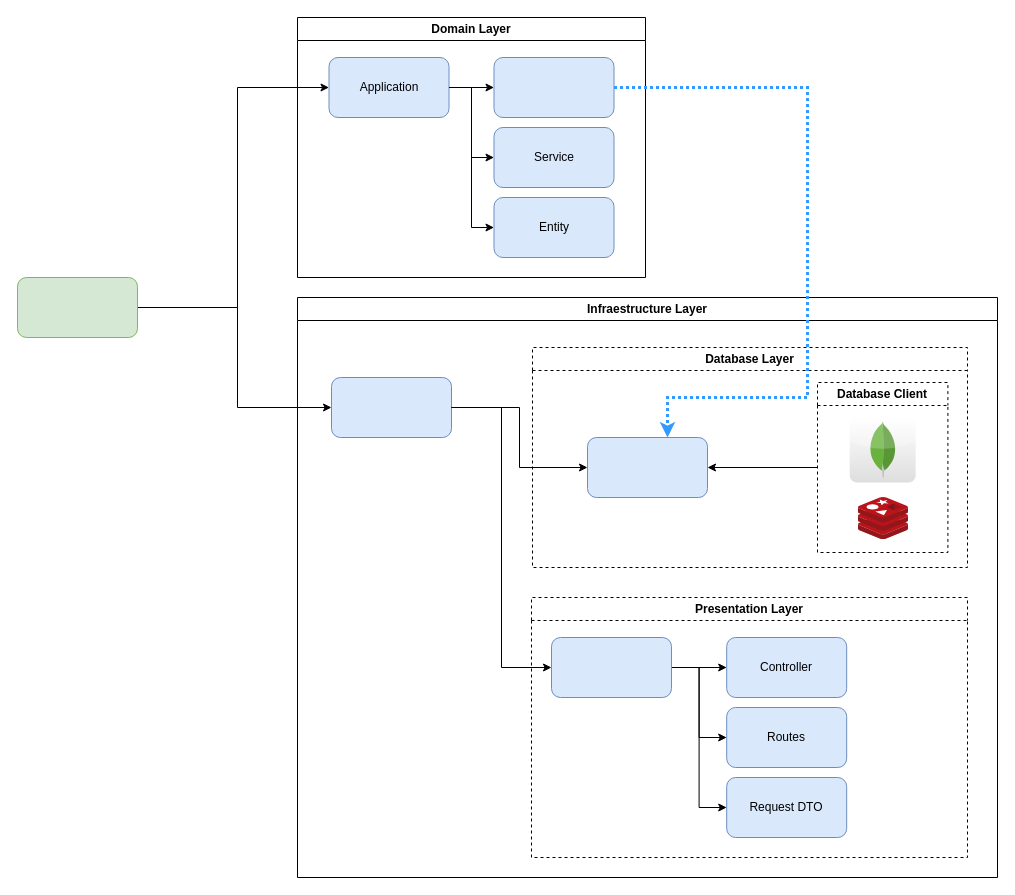
The diagram is 1015 pixels wide and 895 high, and some of its shapes have lost their labels. The shapes that lost their labels are listed below. From the top down, each one's centre as x and y in pixels, then its label:
the point at 553,87: Interface
the point at 77,307: APP
the point at 391,407: Infra
the point at 647,467: Repository
the point at 611,667: Presentation
